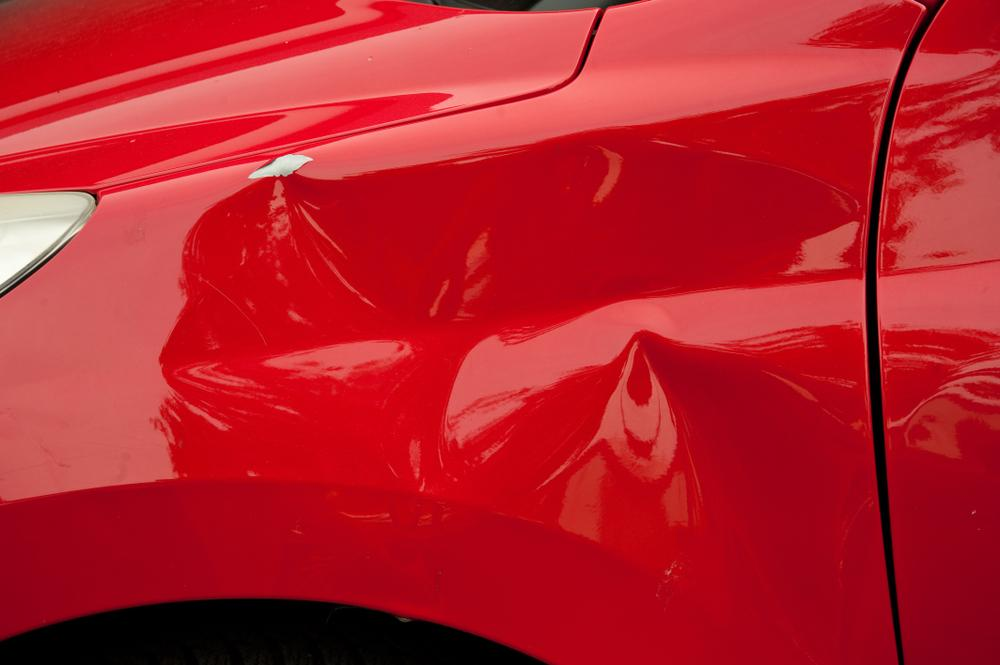dent: (160, 131, 866, 622), (536, 327, 872, 665)
